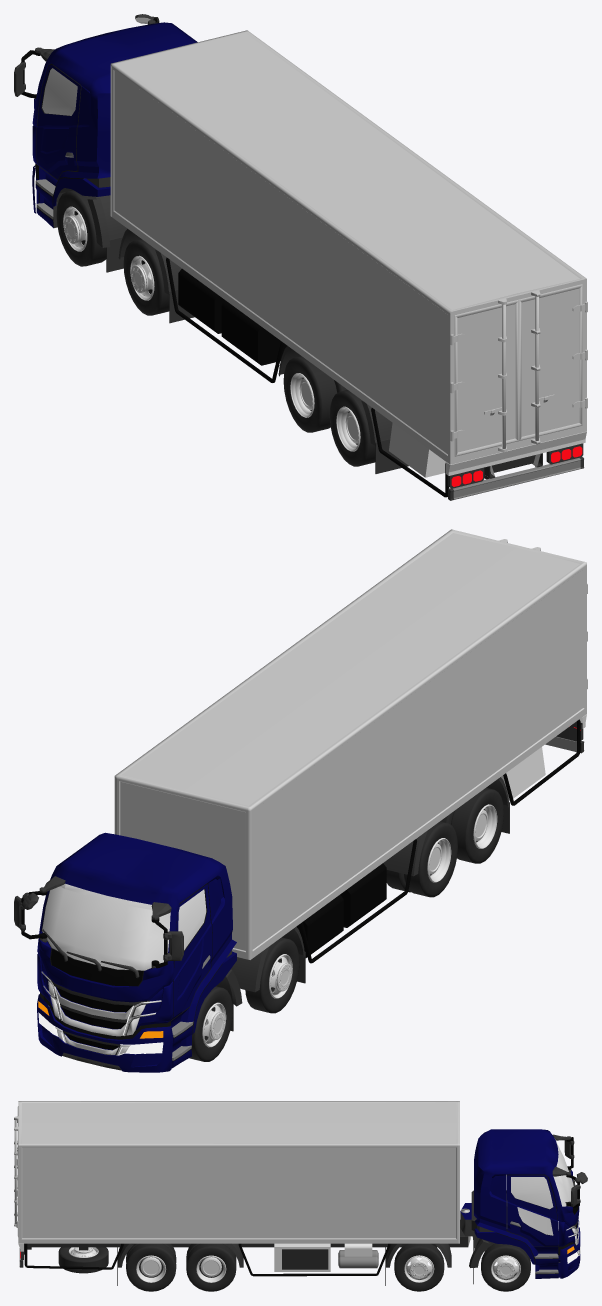
File: Truck.glb
3 views of the same model, one above another, from view 1: azimuth 30°, elevation 25°; view 2: azimuth 150°, elevation 25°; view 3: azimuth 270°, elevation 25° (orthographic). The views are drawn at different scales.
Visible parts, largest first — view 1: Truck_body_Truck_body.L, Truck_head_Truck_head.L, wheels_Circle.008, wheel1, wheels_Circle.013, wheels_Circle.025; view 2: Truck_body_Truck_body.L, Truck_head_Truck_head.L, wheels_Circle.013, wheels_Circle.008, wheels_Circle.025, wheel1; view 3: Truck_body_Truck_body.L, Truck_head_Truck_head.L, wheels_Circle.006, wheels_Circle.010, wheels_Circle.028, wheels_Circle.027.
Boxes of the visible parts, left/top/right/bottom form: Truck_body_Truck_body.L: left=110, top=30, right=587, bottom=500; Truck_head_Truck_head.L: left=14, top=14, right=197, bottom=272; wheels_Circle.008: left=283, top=356, right=347, bottom=432; wheel1: left=56, top=190, right=106, bottom=266; wheels_Circle.013: left=329, top=390, right=375, bottom=466; wheels_Circle.025: left=123, top=239, right=169, bottom=315; Truck_body_Truck_body.L: left=114, top=529, right=587, bottom=992; Truck_head_Truck_head.L: left=14, top=832, right=242, bottom=1072; wheels_Circle.013: left=440, top=787, right=503, bottom=863; wheels_Circle.008: left=386, top=821, right=457, bottom=897; wheels_Circle.025: left=245, top=937, right=299, bottom=1013; wheel1: left=189, top=986, right=232, bottom=1061; Truck_body_Truck_body.L: left=14, top=1101, right=470, bottom=1285; Truck_head_Truck_head.L: left=460, top=1129, right=587, bottom=1284; wheels_Circle.006: left=126, top=1243, right=176, bottom=1291; wheels_Circle.010: left=186, top=1243, right=236, bottom=1291; wheels_Circle.028: left=394, top=1243, right=444, bottom=1291; wheels_Circle.027: left=481, top=1243, right=530, bottom=1291.
Bounding box in the file's own units: 4.48 × 5.87 × 20.68.
